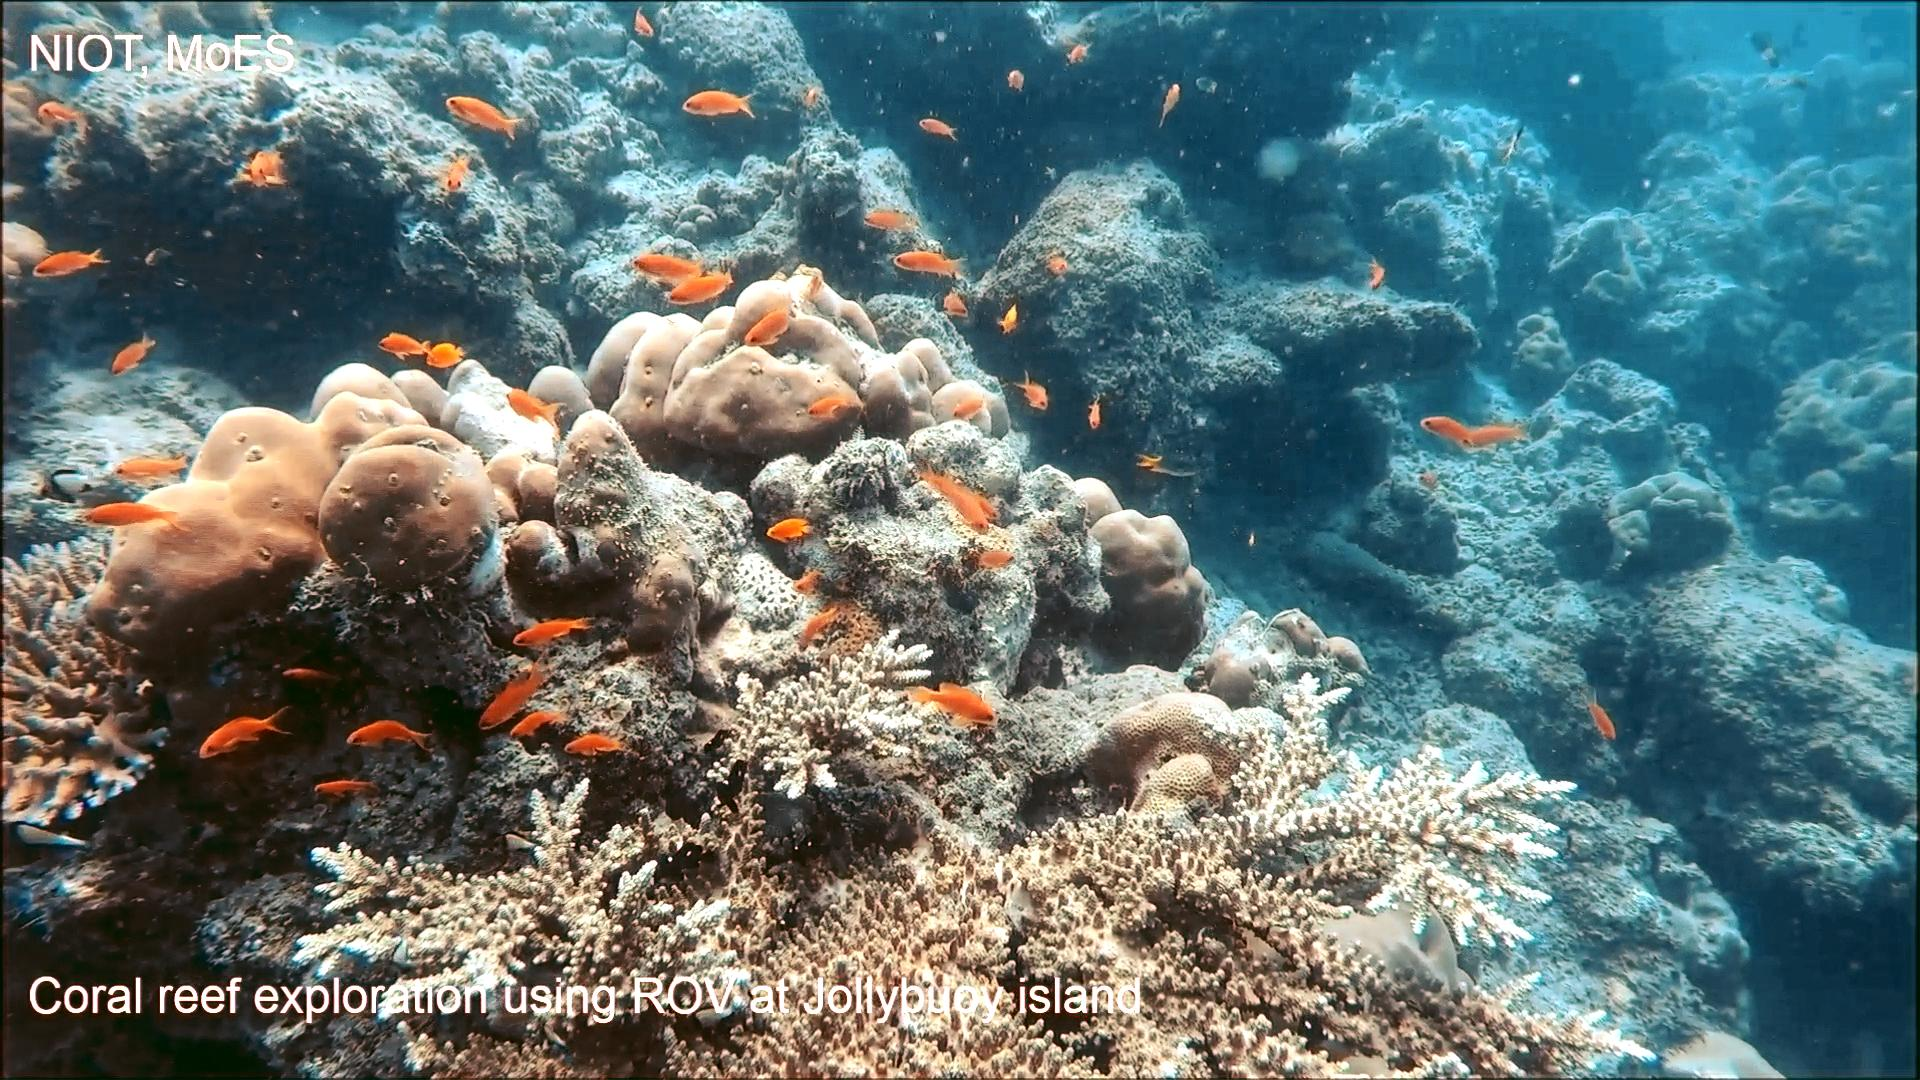Porites-Porites pukoensis: (78, 359, 509, 673), (572, 266, 1019, 463)
